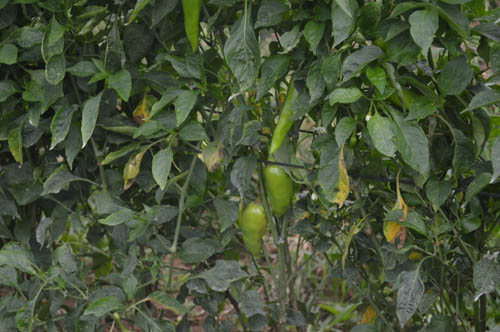ChiliPepper: (268, 76, 305, 155), (265, 162, 296, 218), (244, 203, 267, 255), (181, 2, 201, 54)
